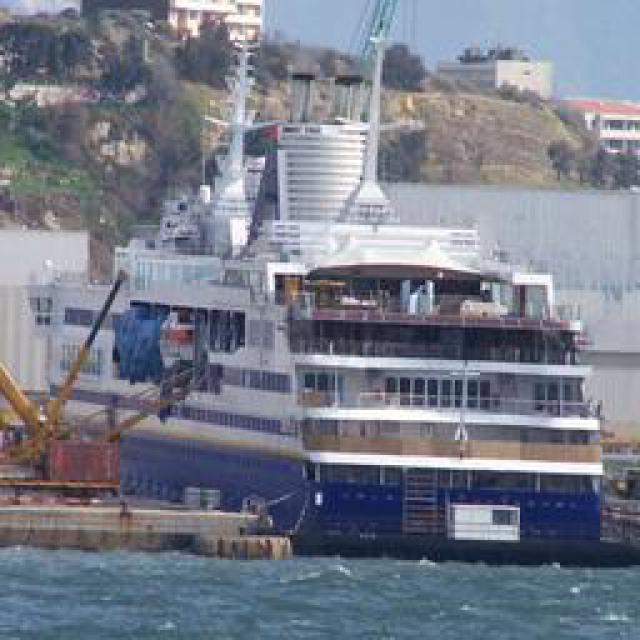Ship: (84, 177, 614, 567)
